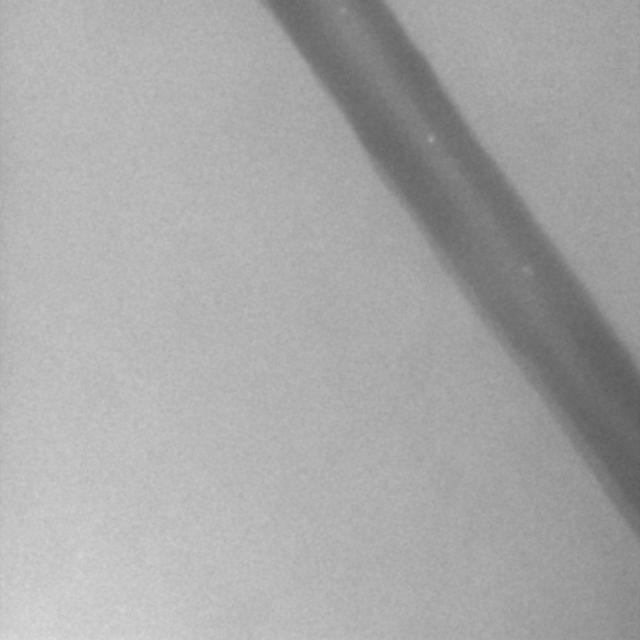air hole: (426, 133, 435, 145)
